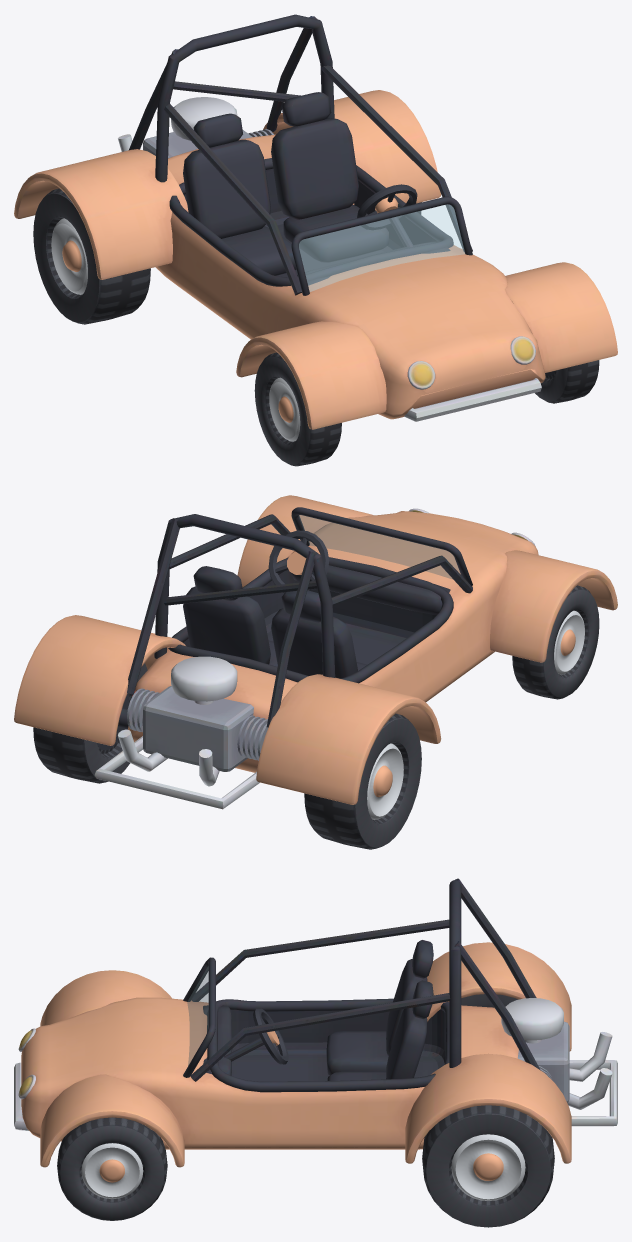
The model's file is dune-buggy.glb.
3 renders of one model, top to bottom at view 1: azimuth 30°, elevation 25°; view 2: azimuth 150°, elevation 25°; view 3: azimuth 270°, elevation 25°, orthographic. The views are drawn at different scales.
Visible parts, largest first — view 1: dune-buggy_body, dune-buggy_wheel_rr, dune-buggy_windows, dune-buggy_wheel_fr, dune-buggy_wheel_fl, dune-buggy_steering_wheel; view 2: dune-buggy_body, dune-buggy_wheel_rr, dune-buggy_wheel_fr, dune-buggy_windows, dune-buggy_wheel_rl, dune-buggy_steering_wheel; view 3: dune-buggy_body, dune-buggy_wheel_rl, dune-buggy_wheel_fl, dune-buggy_windows, dune-buggy_steering_wheel.
Part boxes in pixels (x1,y1,x2,y2): dune-buggy_body: [14, 14, 617, 429]; dune-buggy_wheel_rr: [33, 188, 150, 324]; dune-buggy_windows: [299, 204, 464, 291]; dune-buggy_wheel_fr: [254, 352, 341, 466]; dune-buggy_wheel_fl: [535, 360, 599, 403]; dune-buggy_steering_wheel: [357, 184, 417, 230]; dune-buggy_body: [14, 495, 617, 809]; dune-buggy_wheel_rr: [304, 713, 421, 849]; dune-buggy_wheel_fr: [512, 585, 599, 699]; dune-buggy_windows: [299, 515, 460, 579]; dune-buggy_wheel_rl: [33, 663, 147, 783]; dune-buggy_steering_wheel: [268, 530, 329, 593]; dune-buggy_body: [14, 878, 617, 1167]; dune-buggy_wheel_rl: [422, 1105, 554, 1227]; dune-buggy_wheel_fl: [57, 1117, 167, 1220]; dune-buggy_windows: [187, 966, 208, 1065]; dune-buggy_steering_wheel: [253, 1008, 288, 1064].
Size of the model in its own units: 2.02 by 1.51 by 3.28.
Materials: 6 (2 with a texture image).
